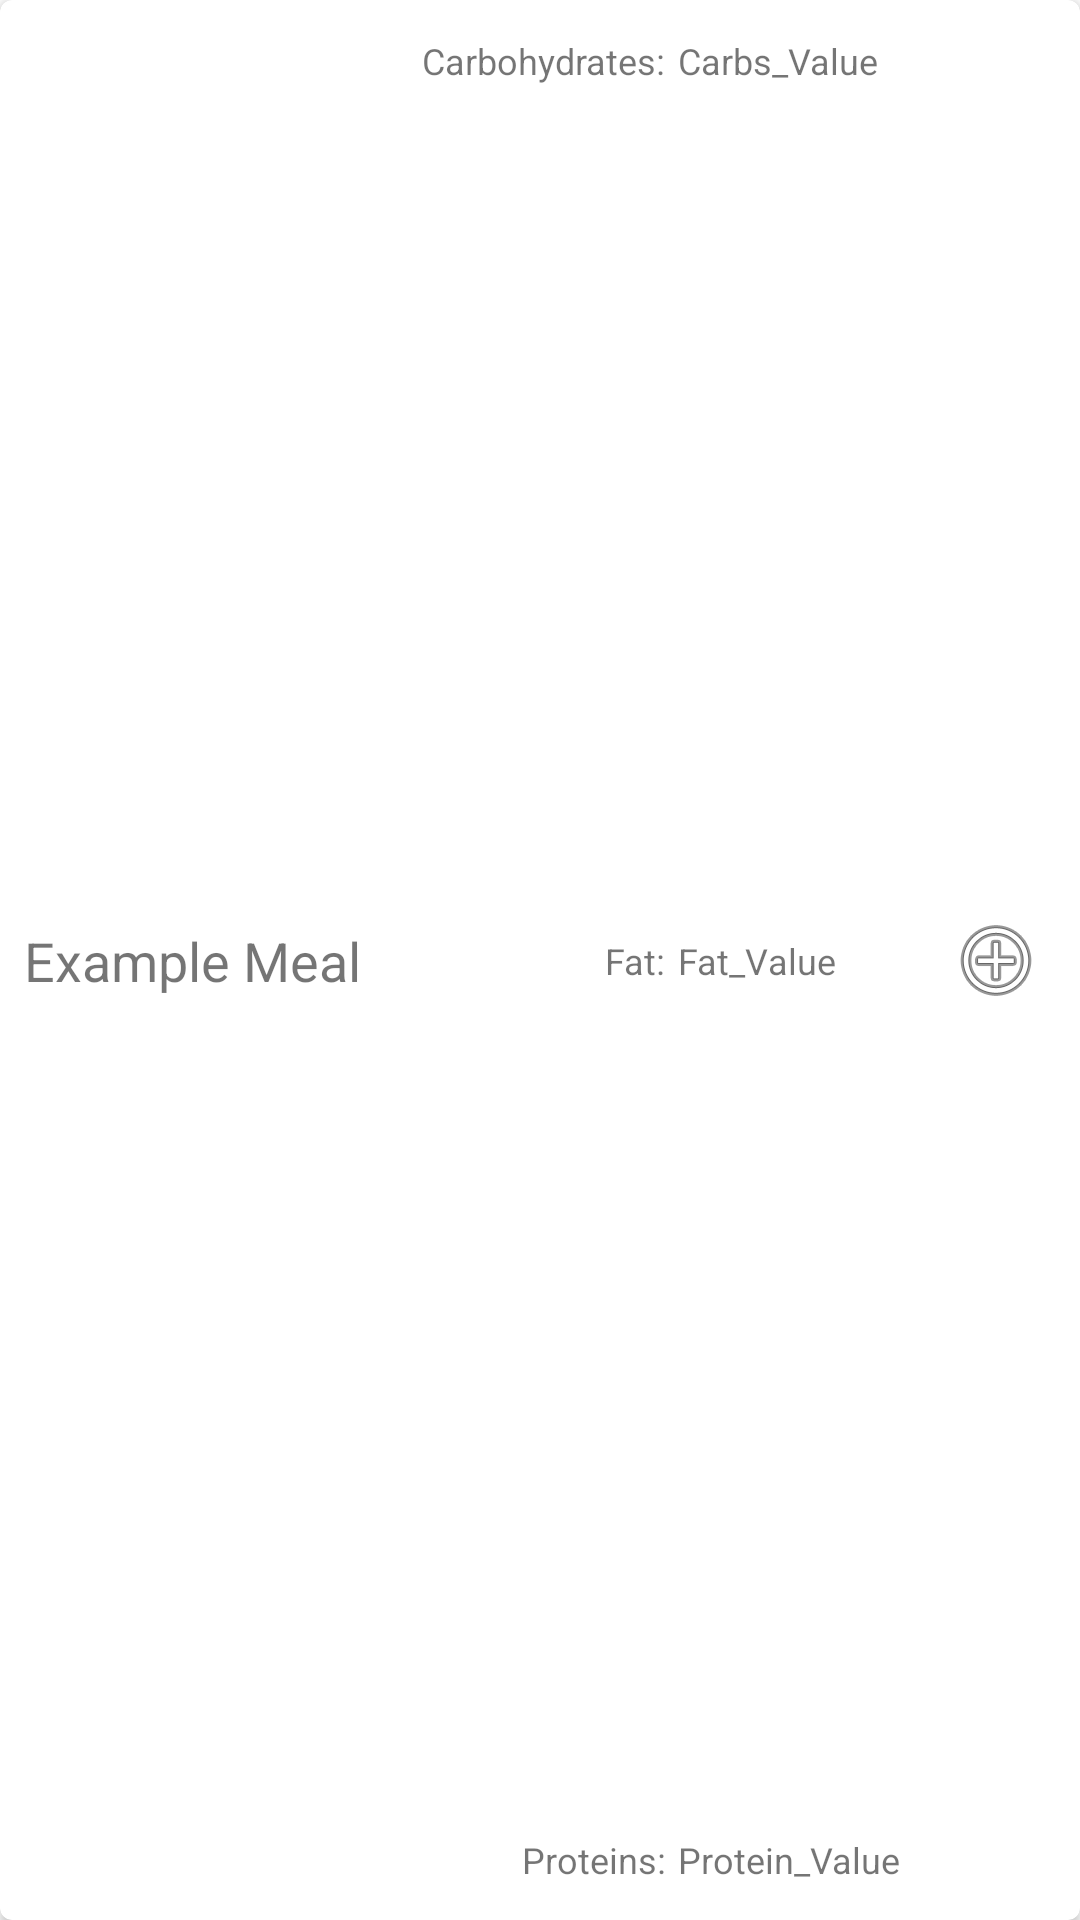

Icon bounding boxes for this 1080px×1920px phone screenshot, format (x1, y1, x2, y2):
add: (960, 925, 1032, 996)
